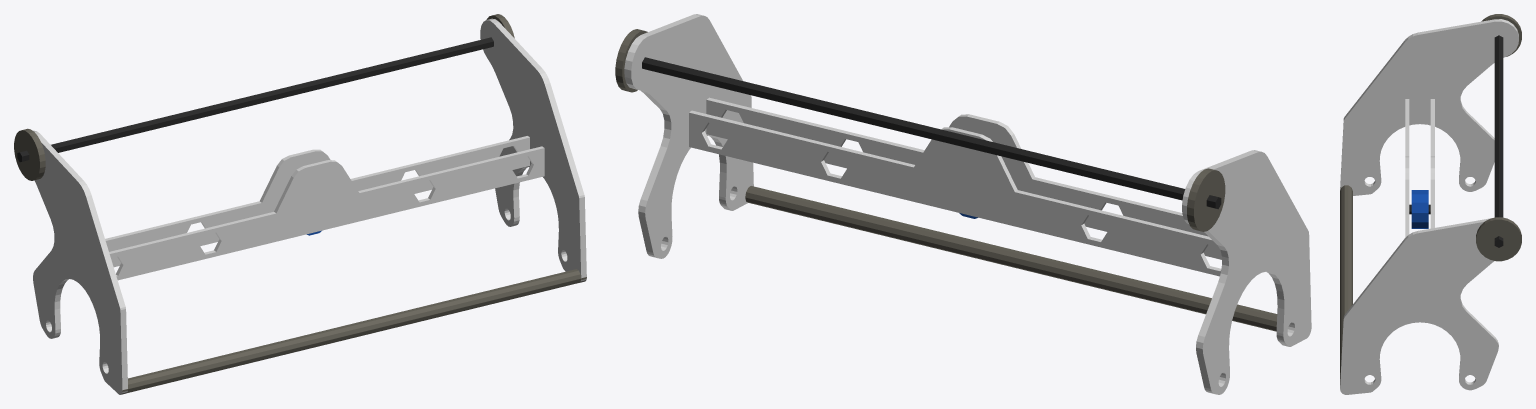
Rendered from ground-intake.obj.
3 renders of one model, left to right at view 1: azimuth 30°, elevation 25°; view 2: azimuth 150°, elevation 25°; view 3: azimuth 270°, elevation 25°, orthographic. The views are drawn at different scales.
Visible parts, largest first — view 1: mesh287, mesh227, mesh365, mesh339, mesh262, mesh261, mesh18, mesh19, mesh2, mesh20, mesh219, mesh14 (+7 smaller); view 2: mesh340, mesh227, mesh365, mesh312, mesh266, mesh264, mesh22, mesh21, mesh23, mesh20, mesh219, mesh286 (+3 smaller); view 3: mesh260, mesh366, mesh186, mesh261, mesh264, mesh20, mesh19, mesh21, mesh18, mesh269, mesh278, mesh90 (+9 smaller).
Boxes of the visible parts, bbox=[...] form: mesh287: bbox=[109, 148, 544, 280]; mesh227: bbox=[33, 143, 122, 394]; mesh365: bbox=[480, 20, 581, 277]; mesh339: bbox=[105, 137, 529, 267]; mesh262: bbox=[54, 41, 493, 152]; mesh261: bbox=[51, 37, 493, 148]; mesh18: bbox=[128, 274, 581, 388]; mesh19: bbox=[128, 270, 579, 384]; mesh2: bbox=[127, 279, 580, 392]; mesh20: bbox=[128, 269, 578, 380]; mesh219: bbox=[14, 130, 39, 180]; mesh14: bbox=[86, 195, 125, 308]; mesh340: bbox=[689, 112, 1221, 276]; mesh227: bbox=[1202, 151, 1311, 394]; mesh365: bbox=[631, 15, 753, 258]; mesh312: bbox=[706, 100, 1221, 259]; mesh266: bbox=[642, 62, 1183, 200]; mesh264: bbox=[642, 57, 1185, 194]; mesh22: bbox=[745, 192, 1276, 326]; mesh21: bbox=[746, 188, 1276, 321]; mesh23: bbox=[745, 197, 1276, 330]; mesh20: bbox=[748, 186, 1277, 316]; mesh219: bbox=[1194, 170, 1225, 231]; mesh286: bbox=[689, 110, 914, 167]; mesh260: bbox=[1340, 21, 1518, 195]; mesh366: bbox=[1340, 222, 1498, 394]; mesh186: bbox=[1476, 219, 1521, 261]; mesh261: bbox=[1494, 35, 1498, 217]; mesh264: bbox=[1499, 35, 1503, 217]; mesh20: bbox=[1344, 185, 1348, 314]; mesh19: bbox=[1341, 185, 1344, 359]; mesh21: bbox=[1348, 185, 1351, 309]; mesh18: bbox=[1340, 188, 1341, 384]; mesh269: bbox=[1405, 99, 1409, 156]; mesh278: bbox=[1430, 99, 1434, 156]; mesh90: bbox=[1418, 19, 1495, 34].
Size of the model in its own units: 0.7493 by 0.2929 by 0.2715.
